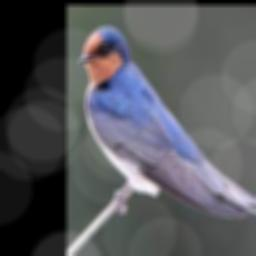Swallow: (79, 26, 256, 221)
